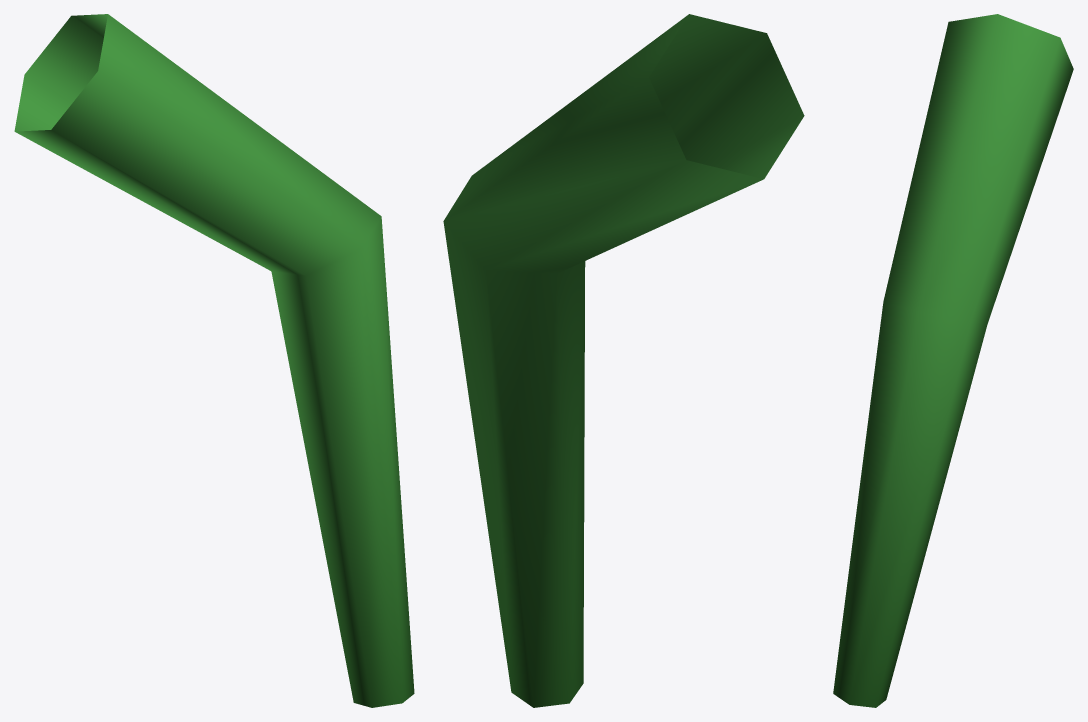
The model's file is Kameleon_Leg2.fbx.
The picture shows the model from 3 angles, left to right: view 1: azimuth 30°, elevation 25°; view 2: azimuth 150°, elevation 25°; view 3: azimuth 270°, elevation 25°; orthographic projection. The views are drawn at different scales.
Parts seen in each view (by area): view 1: Kameleon_Leg2; view 2: Kameleon_Leg2; view 3: Kameleon_Leg2.
Part boxes in pixels (<box>): Kameleon_Leg2: <box>14,14,414,707</box>; Kameleon_Leg2: <box>443,14,804,707</box>; Kameleon_Leg2: <box>833,14,1073,707</box>.
Size of the model in its own units: 0.4144 by 0.8771 by 0.3179.
